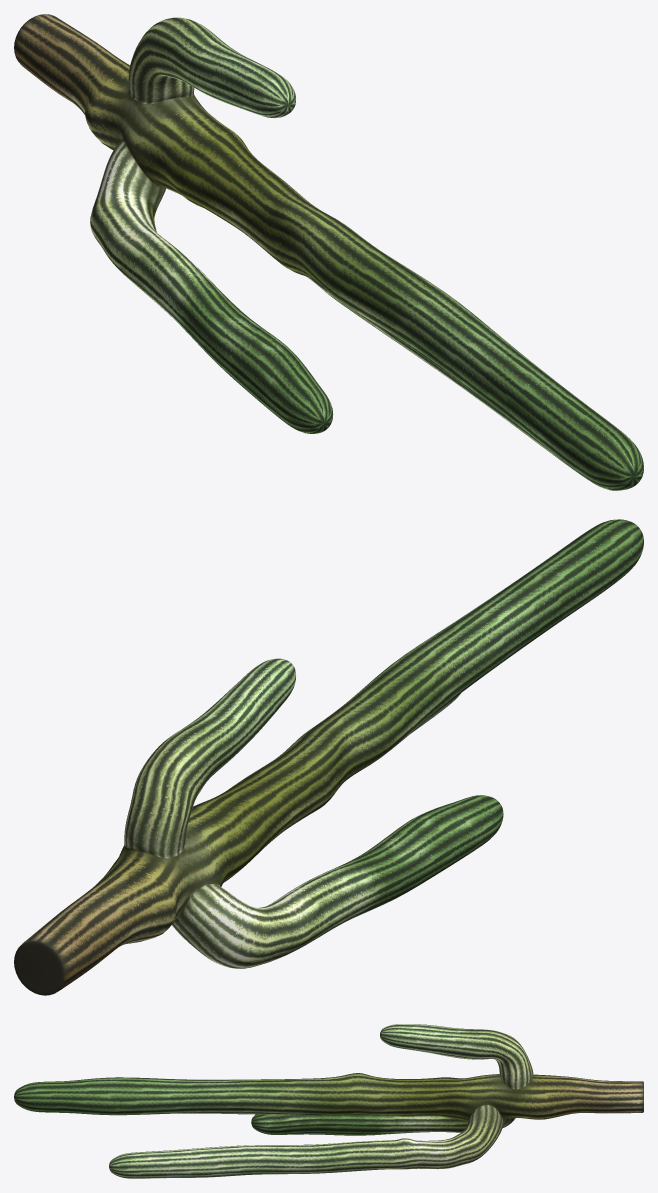
The model's file is cactus.obj.
3 views of the same model, one above another, from view 1: azimuth 30°, elevation 25°; view 2: azimuth 150°, elevation 25°; view 3: azimuth 270°, elevation 25° (orthographic). The views are drawn at different scales.
Parts seen in each view (by area): view 1: 10436_Cactus_v1; view 2: 10436_Cactus_v1; view 3: 10436_Cactus_v1.
Boxes of the visible parts, x1,y1,x2,y2 form: 10436_Cactus_v1: [14, 14, 643, 490]; 10436_Cactus_v1: [14, 519, 643, 995]; 10436_Cactus_v1: [14, 1024, 643, 1178].
Size of the model in its own units: 51.26 by 57.06 by 250.
Materials: 1 (1 with a texture image).
